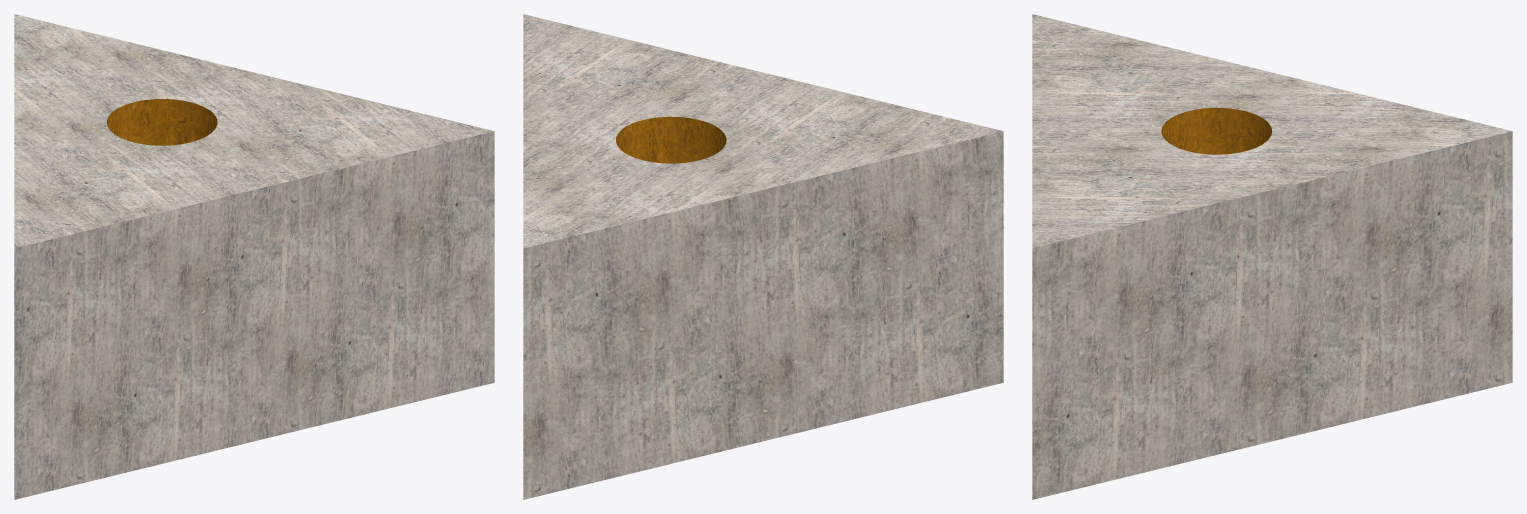
File: hole.fbx
3 views of the same model, side by side, from view 1: azimuth 30°, elevation 25°; view 2: azimuth 150°, elevation 25°; view 3: azimuth 270°, elevation 25° (orthographic).
Visible parts, largest first — view 1: mesh_hole; view 2: mesh_hole; view 3: mesh_hole.
Boxes of the visible parts, <box> form: mesh_hole: <box>14,14,494,499</box>; mesh_hole: <box>523,14,1003,499</box>; mesh_hole: <box>1032,14,1512,499</box>.
Bounding box in the file's own units: 200 × 100 × 173.
